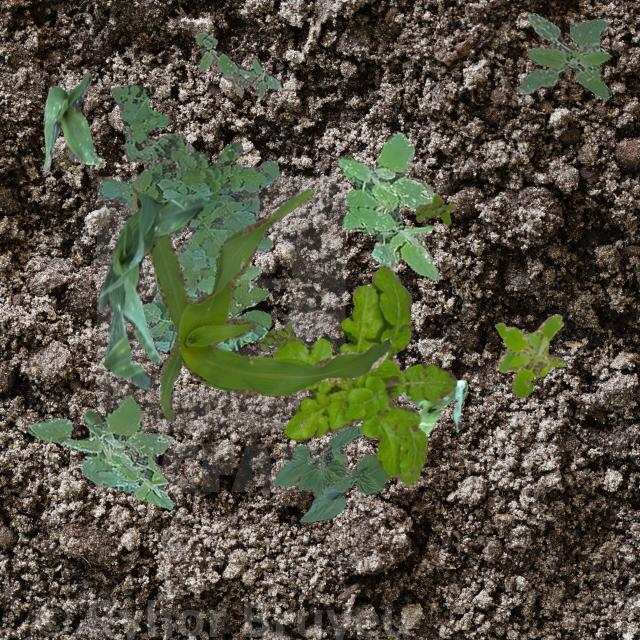crop: (130, 183, 390, 420), (95, 192, 204, 388), (272, 424, 388, 522), (41, 72, 100, 170), (401, 378, 466, 436)
weed: (96, 84, 278, 352), (272, 264, 456, 486), (28, 394, 174, 508), (338, 132, 438, 278), (516, 12, 610, 98), (494, 313, 564, 397), (194, 30, 278, 96), (255, 322, 309, 349), (414, 193, 454, 224), (388, 386, 398, 398)
